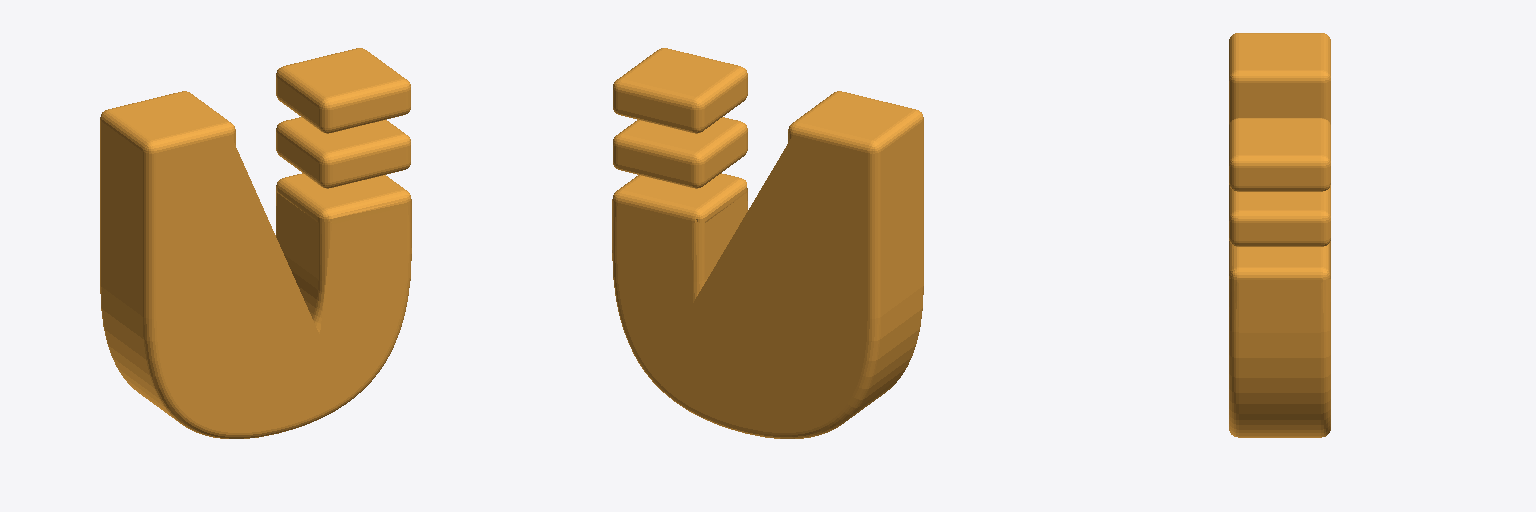
3 renders of one model, left to right at view 1: azimuth 30°, elevation 25°; view 2: azimuth 150°, elevation 25°; view 3: azimuth 270°, elevation 25°, orthographic.
Visible parts, largest first — view 1: Cube.1, Cube, Cube.2; view 2: Cube.1, Cube, Cube.2; view 3: Cube.1, Cube, Cube.2.
Part boxes in pixels (x1,y1,x2,y2): Cube.1: (100,91,411,438); Cube: (276,48,410,133); Cube.2: (276,117,410,188); Cube.1: (612,91,923,438); Cube: (613,48,747,133); Cube.2: (613,117,747,188); Cube.1: (1229,33,1330,437); Cube: (1229,118,1330,191); Cube.2: (1229,185,1330,246).
Bounding box in the file's own units: 124 × 143 × 41.07.